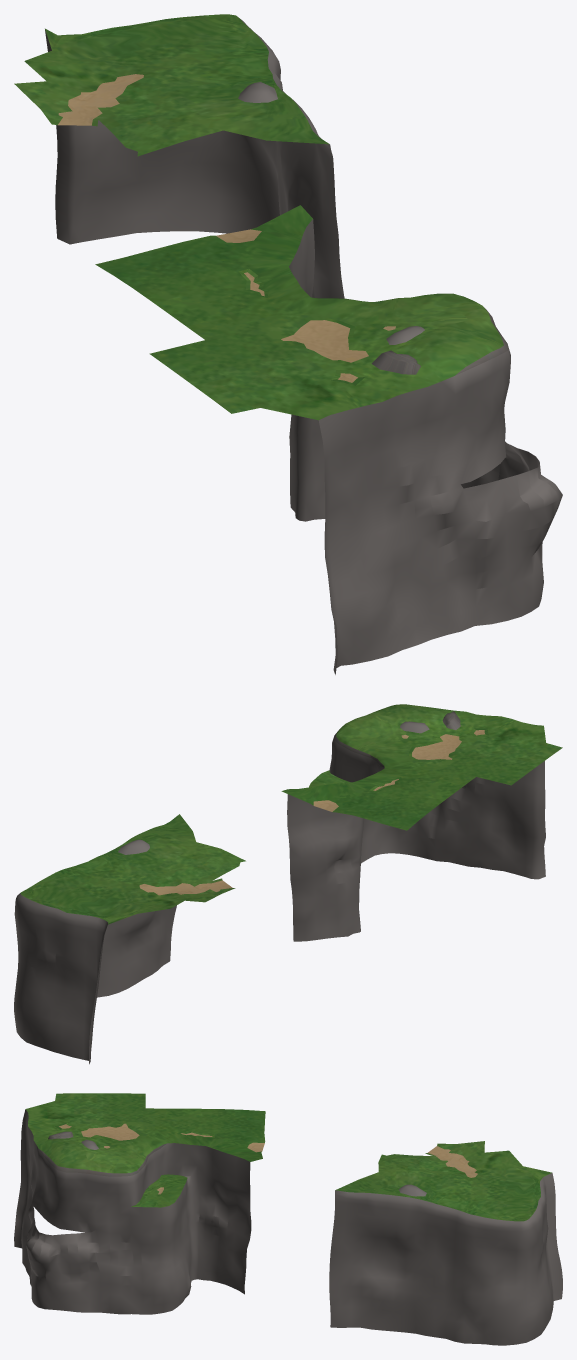
Rendered from SM_ENV_KNFRST_Cliff_A_COL.FBX.
3 renders of one model, top to bottom at view 1: azimuth 30°, elevation 25°; view 2: azimuth 150°, elevation 25°; view 3: azimuth 270°, elevation 25°, orthographic. The views are drawn at different scales.
Visible parts, largest first — view 1: SM_ENV_KNFRST_Cliff_A_COL; view 2: SM_ENV_KNFRST_Cliff_A_COL; view 3: SM_ENV_KNFRST_Cliff_A_COL.
Part boxes in pixels (x1,y1,x2,y2): SM_ENV_KNFRST_Cliff_A_COL: (14, 14, 562, 674); SM_ENV_KNFRST_Cliff_A_COL: (14, 704, 562, 1064); SM_ENV_KNFRST_Cliff_A_COL: (14, 1093, 562, 1345).
Size of the model in its own units: 5948 by 3386 by 11528.
